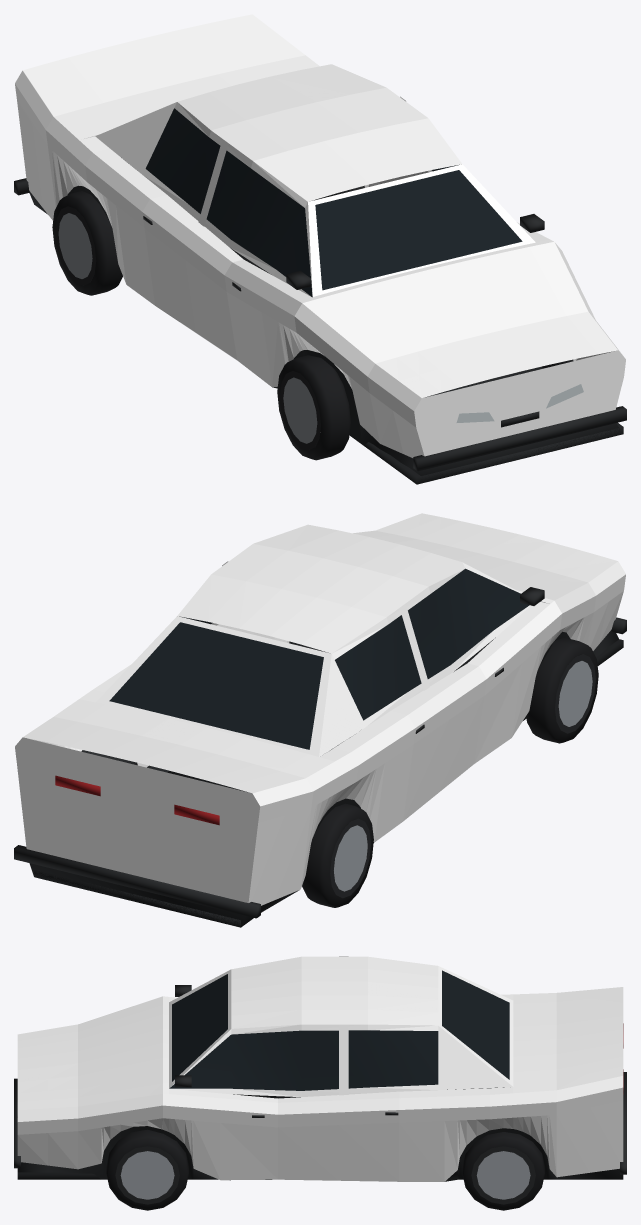
Rendered from halberton_campina.glb.
The picture shows the model from 3 angles, top to bottom: view 1: azimuth 30°, elevation 25°; view 2: azimuth 150°, elevation 25°; view 3: azimuth 270°, elevation 25°; orthographic projection. The views are drawn at different scales.
Parts seen in each view (by area): view 1: Body_Paint, Body_Details, Mount_FrontLeft_Wheel_Details, Mount_RearLeft_Wheel_Details; view 2: Body_Paint, Body_Details, Mount_FrontLeft_Wheel_Details, Mount_RearLeft_Wheel_Details; view 3: Body_Paint, Body_Details, Mount_FrontRight_Wheel_Details, Mount_RearRight_Wheel_Details.
Boxes of the visible parts, x1=… form: Body_Paint: x1=15, y1=14, x2=625, y2=457; Body_Details: x1=14, y1=108, x2=626, y2=484; Mount_FrontLeft_Wheel_Details: x1=277, y1=355, x2=350, y2=460; Mount_RearLeft_Wheel_Details: x1=52, y1=191, x2=122, y2=295; Body_Paint: x1=15, y1=513, x2=625, y2=905; Body_Details: x1=14, y1=568, x2=626, y2=927; Mount_FrontLeft_Wheel_Details: x1=526, y1=637, x2=598, y2=743; Mount_RearLeft_Wheel_Details: x1=302, y1=803, x2=373, y2=907; Body_Paint: x1=17, y1=956, x2=623, y2=1181; Body_Details: x1=14, y1=970, x2=626, y2=1181; Mount_FrontRight_Wheel_Details: x1=106, y1=1129, x2=188, y2=1210; Mount_RearRight_Wheel_Details: x1=462, y1=1132, x2=544, y2=1210.
Bounding box in the file's own units: 1.94 × 1.46 × 4.74.
2 materials, 1 textured.
